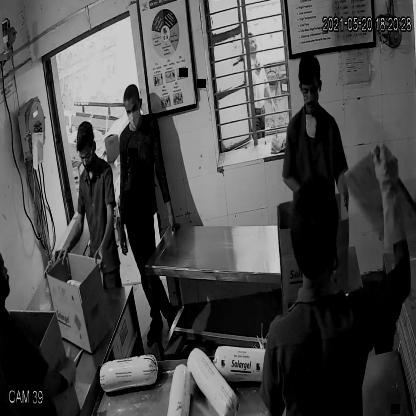goggles: (300, 82, 320, 98)
no_goggles: (125, 102, 140, 114)
